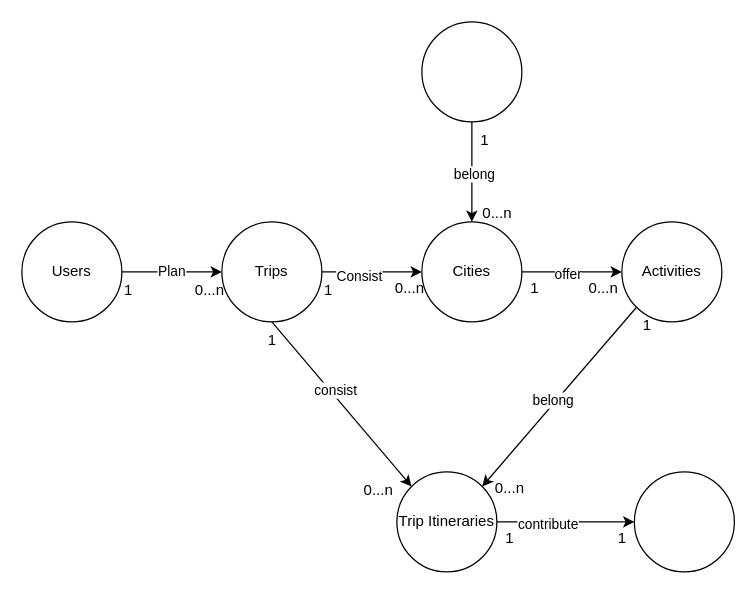
The diagram is 756 pixels wide and 594 high, and some of its shapes have lost their labels. The shapes that lost their labels are listed below. From the top down, each one's box as (x1, y1, x2, y2) in pixels, then its label:
(421, 21, 522, 122): Countries
(633, 471, 734, 572): Budget
